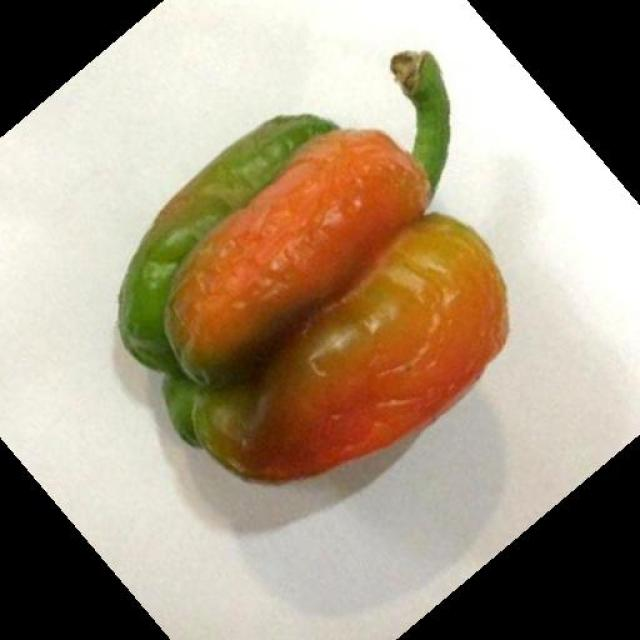Stale_Capsicum: (118, 93, 551, 453)
